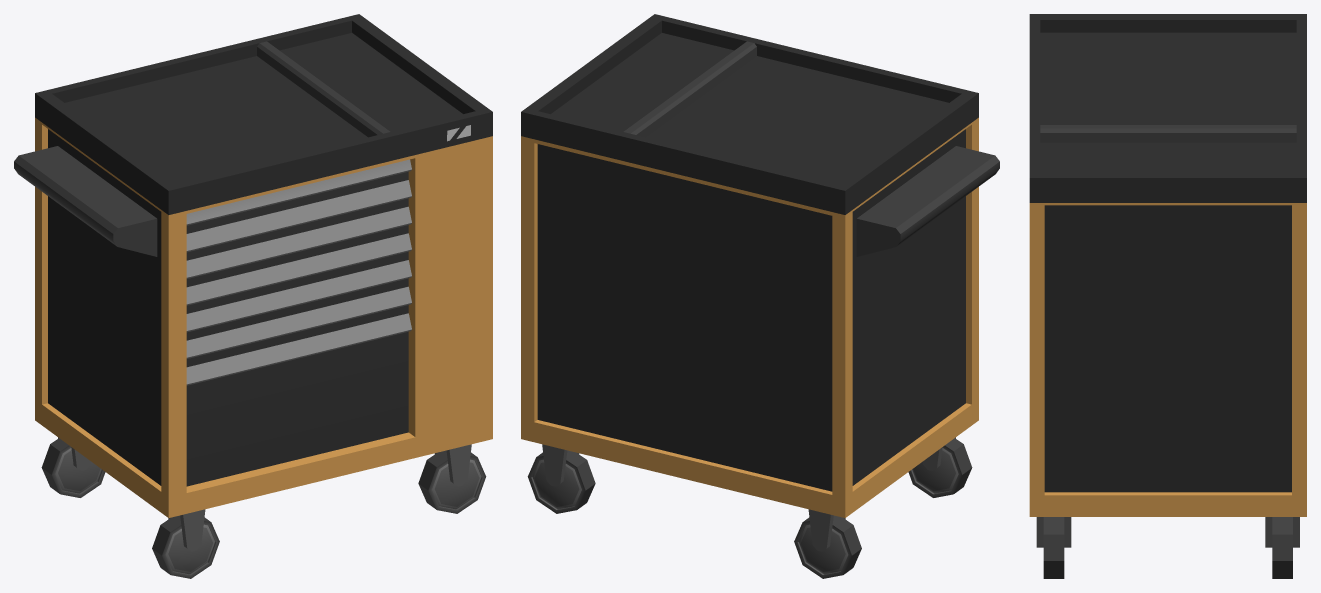
File: ToolTrolley2.fbx
The picture shows the model from 3 angles, left to right: view 1: azimuth 30°, elevation 25°; view 2: azimuth 150°, elevation 25°; view 3: azimuth 270°, elevation 25°; orthographic projection. The views are drawn at different scales.
Visible parts, largest first — view 1: isl_ToolTrolley_02_Def.obj; view 2: isl_ToolTrolley_02_Def.obj; view 3: isl_ToolTrolley_02_Def.obj.
Boxes of the visible parts, x1,y1,x2,y2 form: isl_ToolTrolley_02_Def.obj: (14, 14, 492, 578); isl_ToolTrolley_02_Def.obj: (521, 14, 999, 578); isl_ToolTrolley_02_Def.obj: (1029, 14, 1306, 578).
Size of the model in its own units: 78.22 by 82.5 by 50.32.
